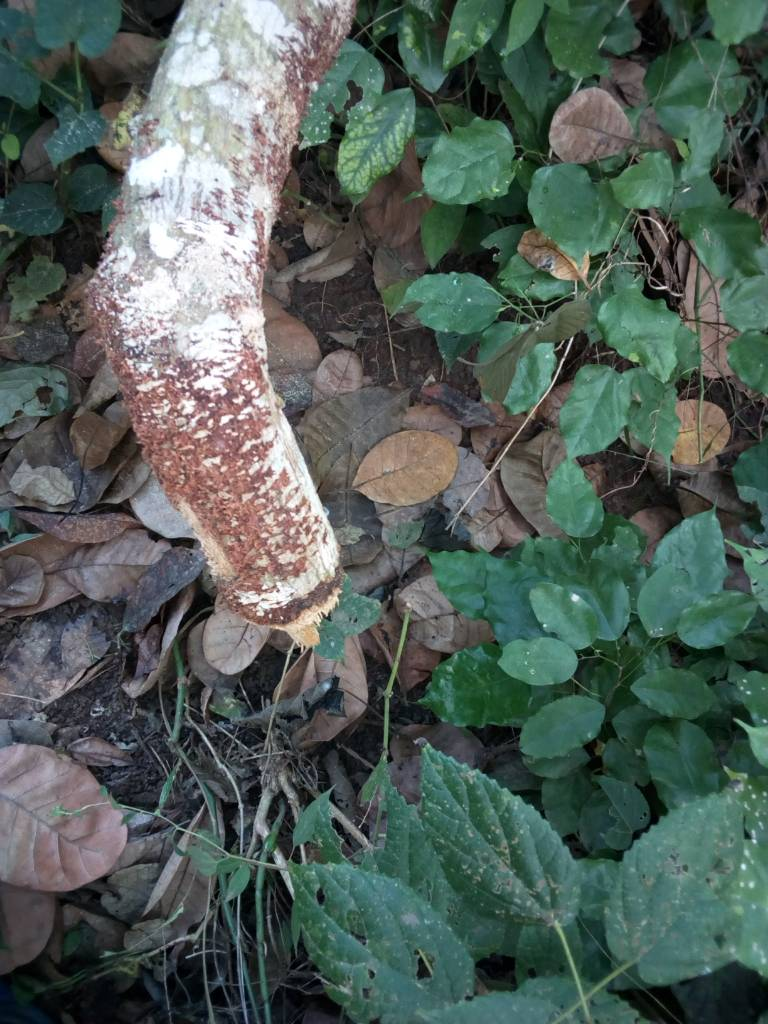Analepse trifasciata: (179, 542, 372, 644)
